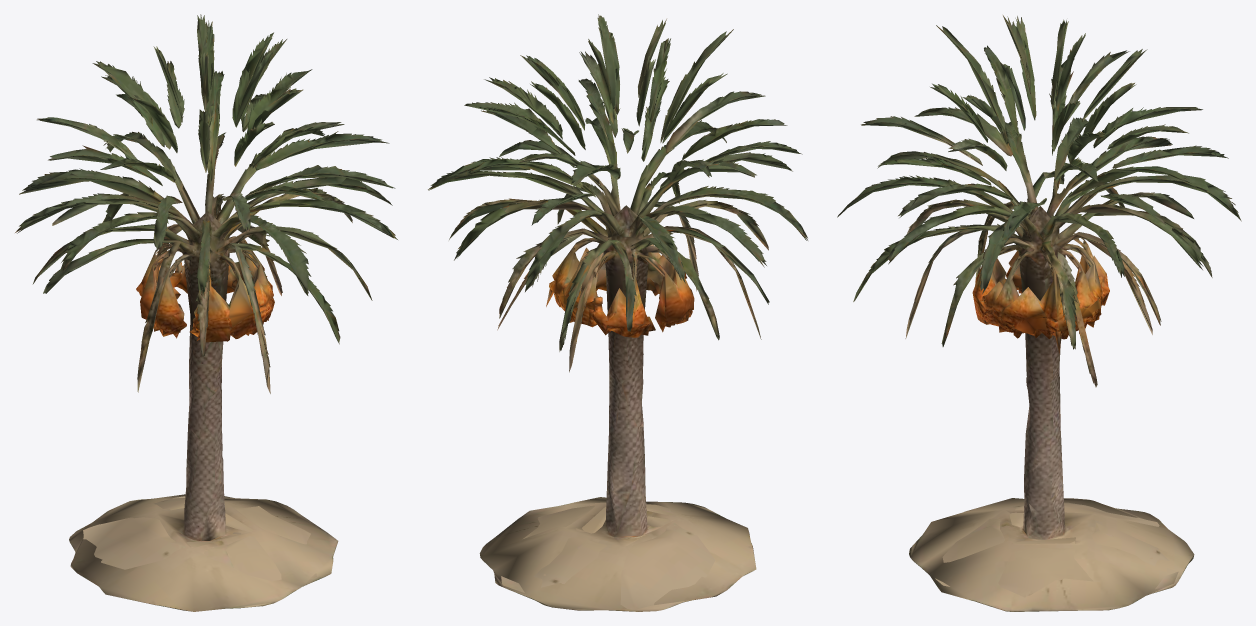
The model's file is p-palm.glb.
The picture shows the model from 3 angles, left to right: view 1: azimuth 30°, elevation 25°; view 2: azimuth 150°, elevation 25°; view 3: azimuth 270°, elevation 25°; orthographic projection.
Visible parts, largest first — view 1: node_0; view 2: node_0; view 3: node_0.
Boxes of the visible parts, x1,y1,x2,y2 form: node_0: (15,14,397,611); node_0: (428,14,807,611); node_0: (837,15,1241,611).
Bounding box in the file's own units: 0.7017 × 1.06 × 0.7351.
1 material, 1 textured.
